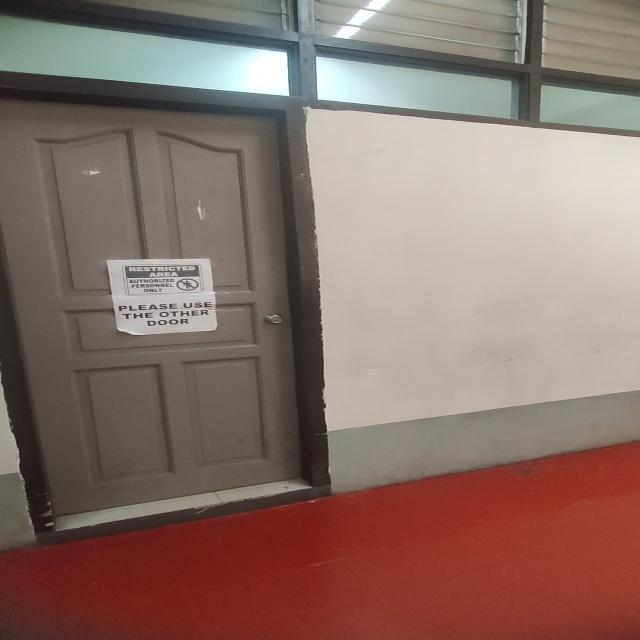door: (0, 86, 304, 521)
